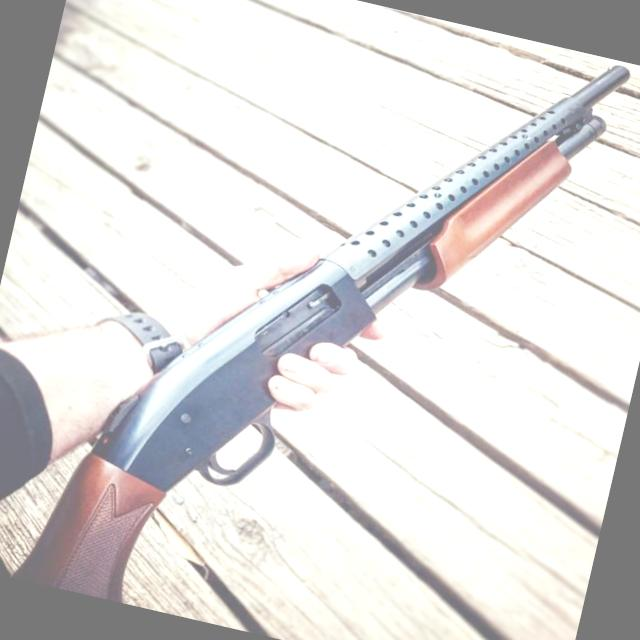shotgun: (0, 0, 632, 640)
